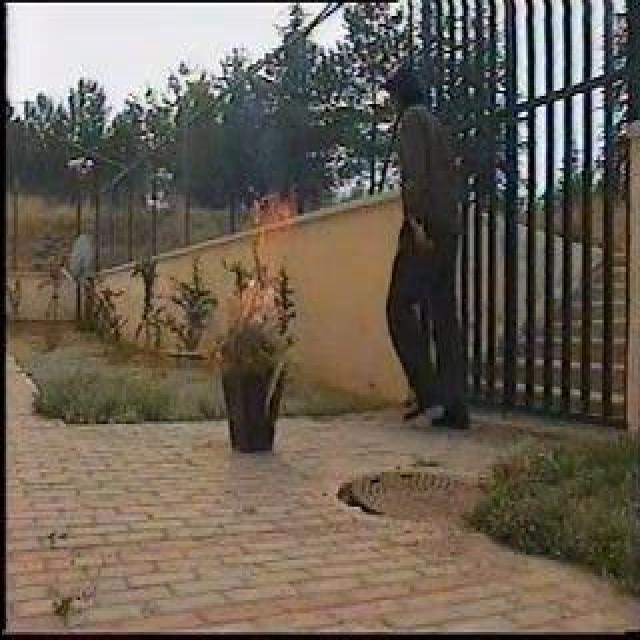fire: (250, 208, 283, 329)
